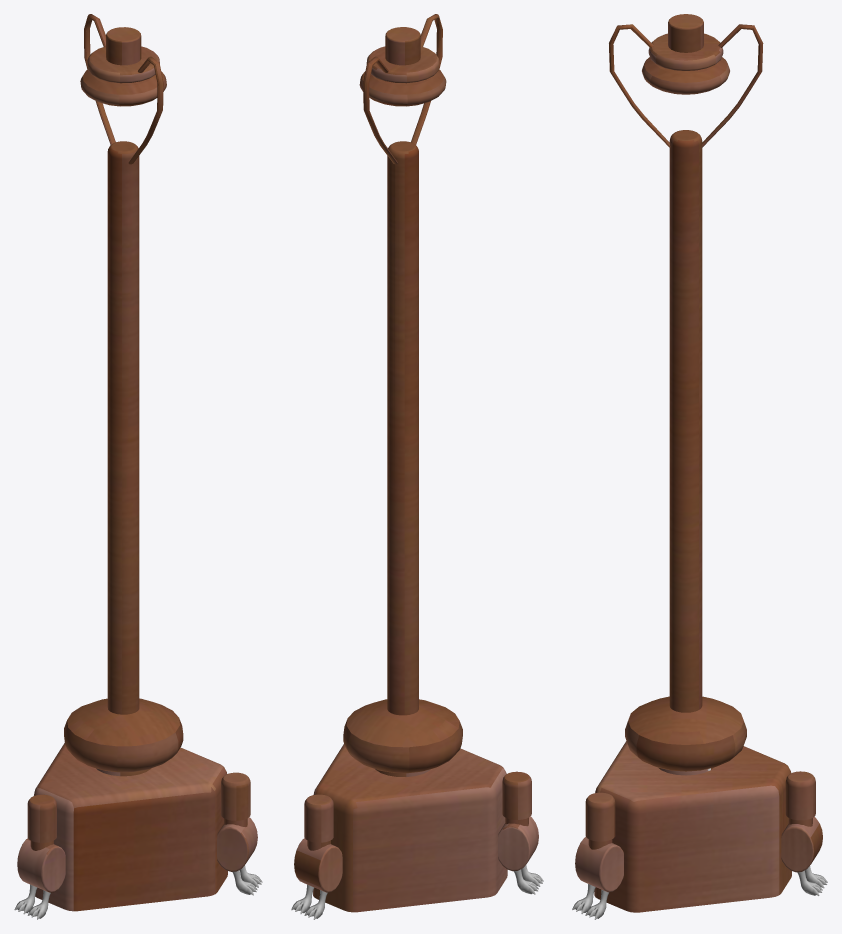
File: Special Lamp.fbx
The picture shows the model from 3 angles, left to right: view 1: azimuth 30°, elevation 25°; view 2: azimuth 150°, elevation 25°; view 3: azimuth 270°, elevation 25°; orthographic projection.
Parts seen in each view (by area): view 1: Special_Lamp; view 2: Special_Lamp; view 3: Special_Lamp.
Boxes of the visible parts, <box> form: Special_Lamp: <box>14,14,262,919</box>; Special_Lamp: <box>291,14,543,919</box>; Special_Lamp: <box>572,14,827,919</box>.
Size of the model in its own units: 114 by 425 by 115.
